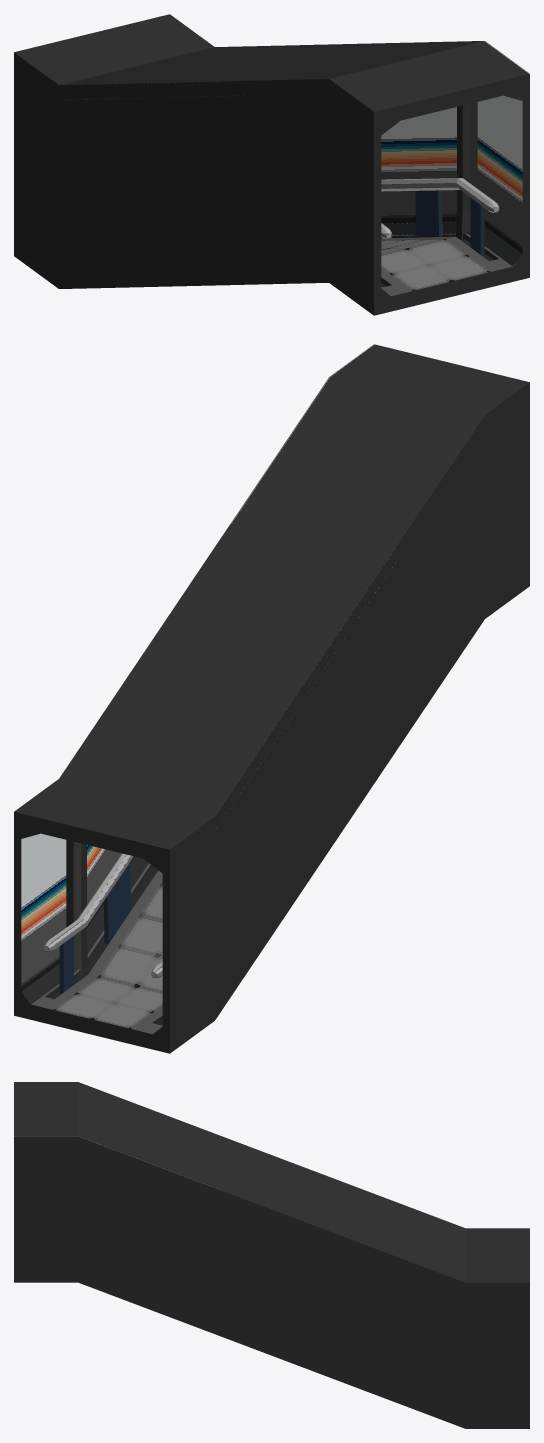
The model's file is CalShipStairs.gltf.
3 renders of one model, top to bottom at view 1: azimuth 30°, elevation 25°; view 2: azimuth 150°, elevation 25°; view 3: azimuth 270°, elevation 25°, orthographic. The views are drawn at different scales.
Parts seen in each view (by area): view 1: mesh; view 2: mesh; view 3: mesh.
Part boxes in pixels (x1,y1,x2,y2): mesh: (14,14,529,315); mesh: (14,344,529,1053); mesh: (14,1082,529,1428).
Bounding box in the file's own units: 2 × 5 × 8.
Materials: 2 (2 with a texture image).
